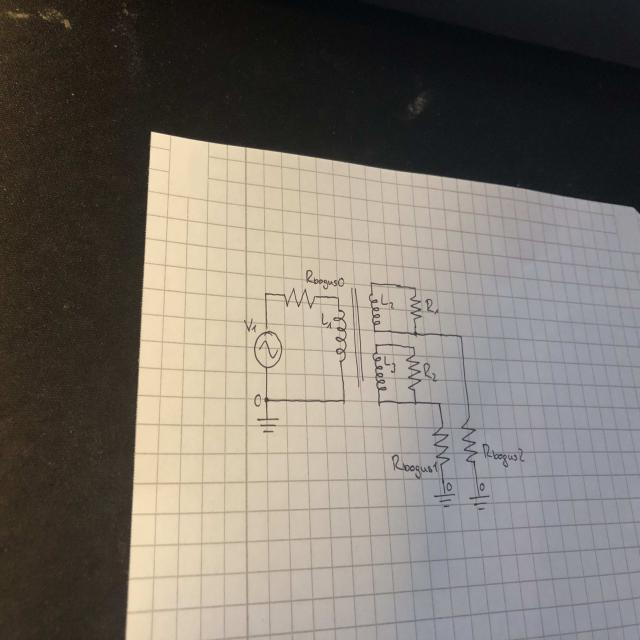ground: (255, 416, 280, 434), (468, 494, 492, 511), (432, 492, 456, 508)
junction: (264, 395, 270, 404), (412, 330, 418, 338), (376, 399, 382, 407), (436, 401, 442, 408), (412, 399, 418, 406), (372, 328, 378, 335), (369, 280, 374, 287), (374, 342, 379, 349), (411, 344, 416, 351), (342, 397, 346, 405), (264, 291, 268, 298), (413, 285, 417, 292), (459, 334, 463, 341), (336, 294, 340, 301)
resistor: (460, 416, 479, 465), (283, 286, 317, 310), (432, 423, 450, 468), (406, 352, 422, 392), (410, 293, 422, 322)
source: (253, 329, 283, 369)
text: (391, 454, 439, 480), (481, 442, 525, 468), (306, 268, 344, 290), (422, 362, 438, 383), (380, 292, 395, 310), (424, 298, 439, 316), (383, 354, 396, 374), (243, 317, 257, 333), (321, 312, 332, 329), (254, 392, 262, 408), (446, 482, 452, 491), (479, 482, 485, 491)
transformer: (333, 290, 387, 393)
